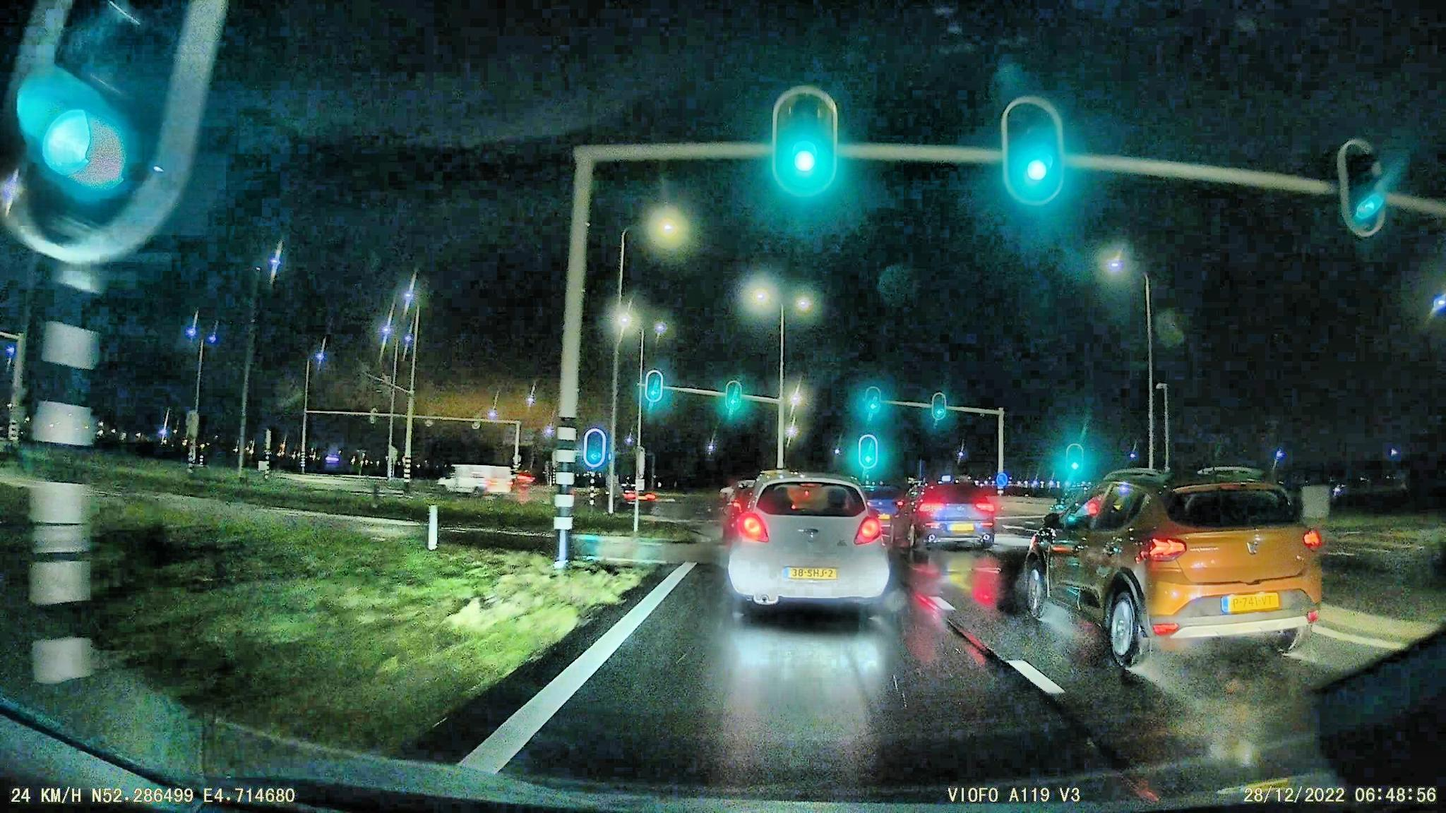Roads: (506, 536, 1214, 813)
